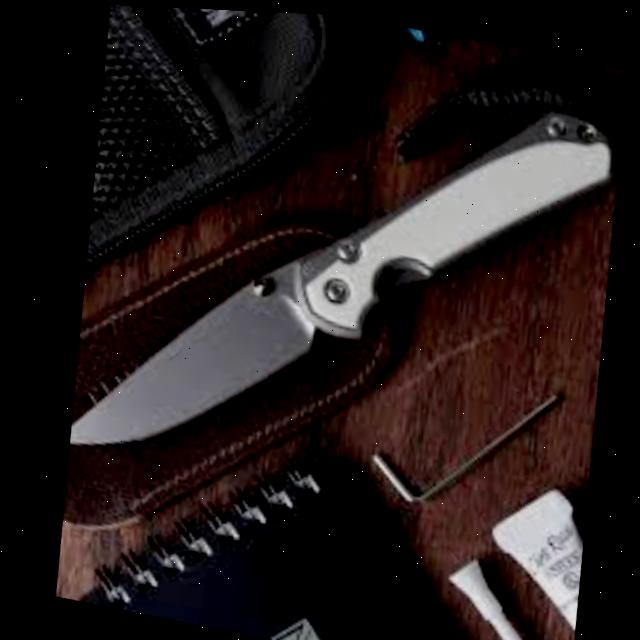Knife: (41, 14, 640, 546), (423, 548, 578, 640)
